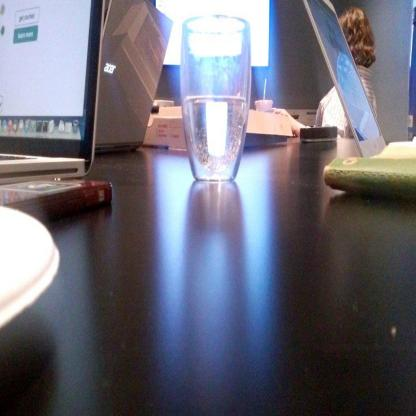board: (0, 0, 109, 187), (304, 0, 416, 161), (96, 0, 175, 154)
